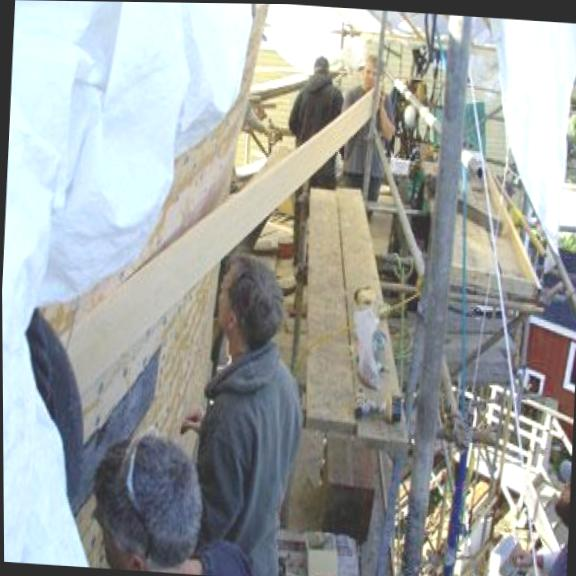no_safety_vest: (191, 347, 311, 543), (283, 80, 350, 178), (338, 76, 400, 173)
